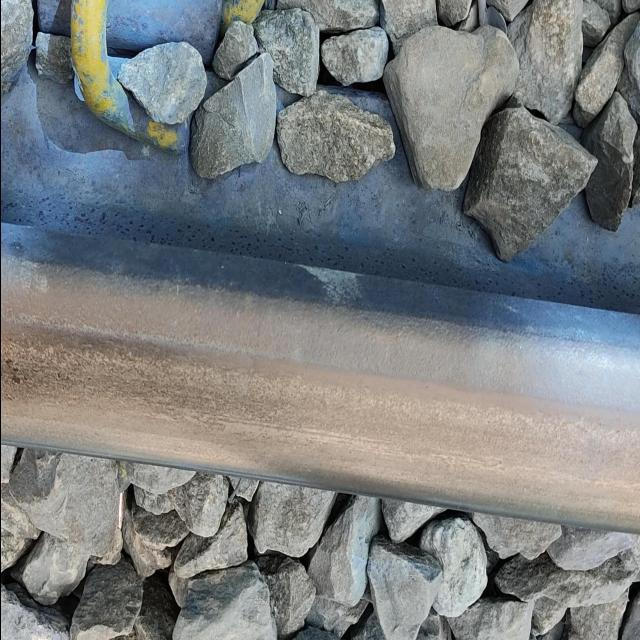squats_high: (5, 357, 21, 387)
